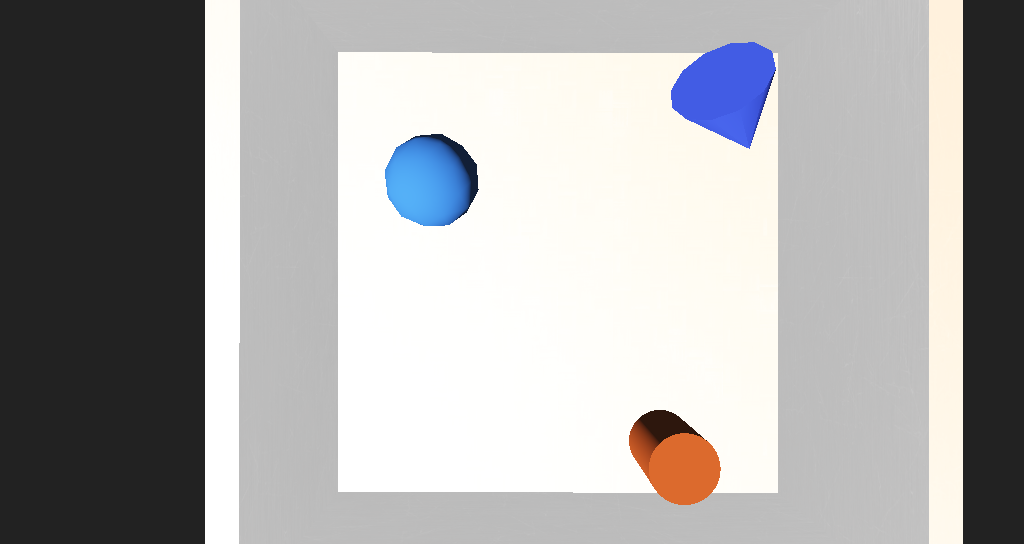cone: (552, 336, 606, 379)
cylinder: (566, 160, 687, 231)
sphere: (384, 200, 451, 248)
